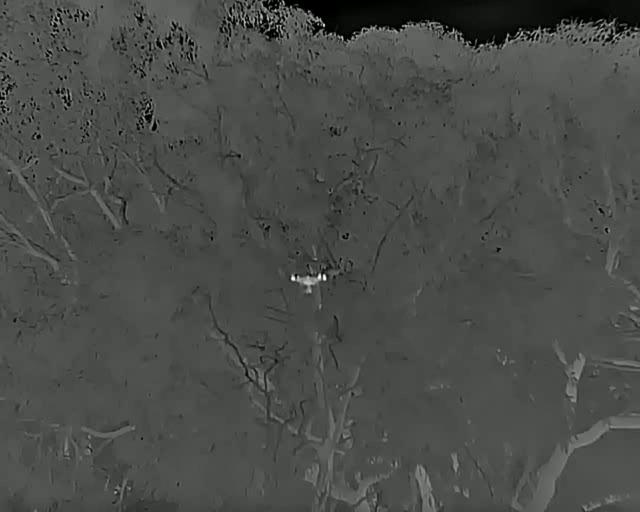DJI-Phantom: (290, 275, 327, 295)
